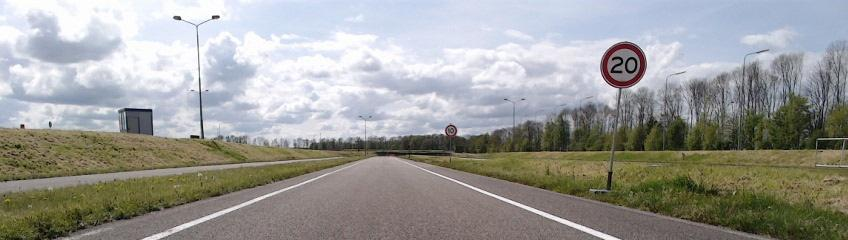Speed-limit-10km-h-: (445, 125, 457, 137)
Speed-limit-20km-h-: (600, 41, 648, 89)
